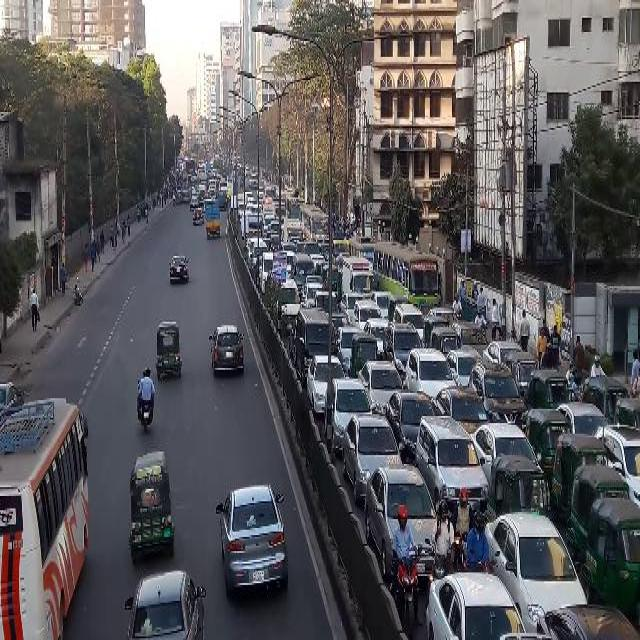bus: (0, 398, 90, 638), (371, 237, 443, 303), (296, 203, 328, 244), (348, 233, 374, 261), (263, 182, 275, 198)
car: (482, 510, 588, 620), (215, 483, 289, 598), (342, 417, 410, 507), (426, 570, 524, 632), (123, 568, 203, 637), (468, 421, 544, 479), (326, 378, 374, 458), (594, 420, 638, 500), (356, 356, 404, 418), (536, 602, 634, 632), (304, 353, 348, 415), (431, 386, 487, 425), (209, 322, 245, 375), (334, 326, 366, 374), (482, 338, 526, 370), (169, 252, 187, 282), (192, 206, 202, 224), (189, 196, 199, 210), (198, 188, 205, 202), (207, 188, 215, 196), (246, 202, 254, 210), (244, 188, 252, 196)
minivan: (416, 411, 488, 517), (392, 304, 424, 340), (352, 298, 384, 330), (258, 249, 272, 295), (250, 241, 268, 271)
motorbike: (387, 501, 423, 626), (424, 499, 462, 582), (451, 482, 479, 574), (466, 509, 492, 575), (134, 369, 156, 431), (451, 294, 463, 318)
pickup: (340, 253, 374, 295), (204, 198, 220, 239), (244, 213, 262, 246), (283, 218, 303, 244), (236, 193, 248, 216), (216, 189, 226, 209)
suv: (467, 359, 527, 427), (404, 346, 458, 404), (452, 318, 488, 354), (263, 211, 275, 237)
three wheelers -CNG-: (565, 464, 629, 560), (584, 495, 636, 611), (130, 450, 174, 556), (550, 434, 608, 512), (524, 406, 570, 490), (488, 451, 548, 513), (582, 376, 628, 417), (526, 367, 568, 408), (504, 349, 538, 394), (156, 322, 180, 378), (349, 334, 377, 377), (421, 327, 457, 352), (322, 263, 338, 292), (174, 188, 182, 202), (182, 189, 188, 202)
truck: (317, 236, 348, 265), (181, 182, 191, 188)
van: (293, 303, 335, 383), (271, 278, 301, 334), (290, 251, 314, 289)
